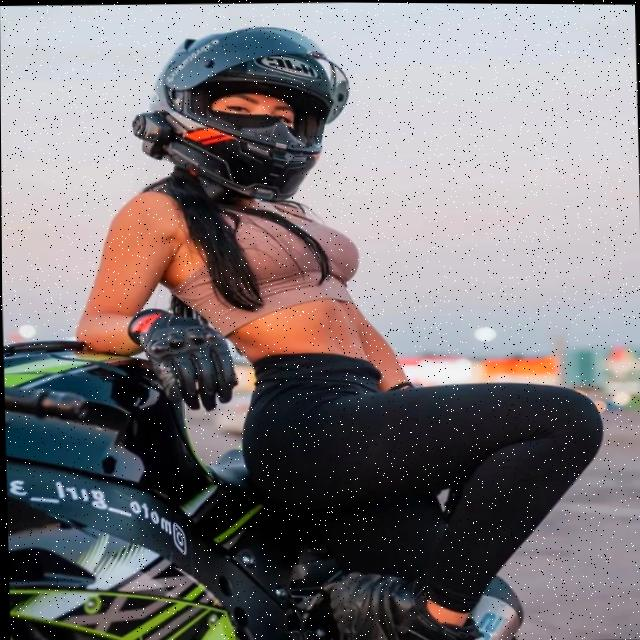helmet: (123, 19, 360, 208)
